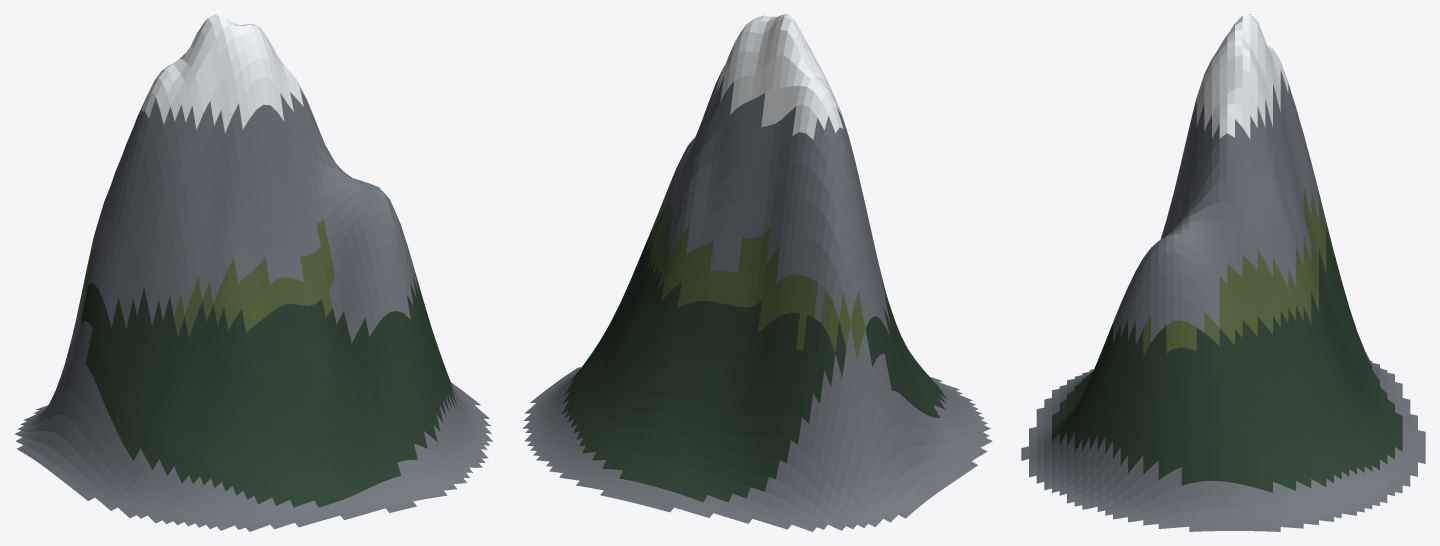
File: snow_mountain.glb
3 renders of one model, left to right at view 1: azimuth 30°, elevation 25°; view 2: azimuth 150°, elevation 25°; view 3: azimuth 270°, elevation 25°, orthographic. The views are drawn at different scales.
Visible parts, largest first — view 1: SnowMt_Rock, SnowMt_Forest, SnowMt_Snow, SnowMt_Meadow; view 2: SnowMt_Rock, SnowMt_Forest, SnowMt_Meadow, SnowMt_Snow; view 3: SnowMt_Rock, SnowMt_Forest, SnowMt_Meadow, SnowMt_Snow.
Boxes of the visible parts, x1,y1,x2,y2 form: SnowMt_Rock: [15, 88, 492, 531]; SnowMt_Forest: [81, 277, 457, 507]; SnowMt_Snow: [141, 14, 306, 133]; SnowMt_Meadow: [80, 219, 421, 337]; SnowMt_Rock: [522, 71, 992, 531]; SnowMt_Forest: [561, 231, 946, 502]; SnowMt_Meadow: [645, 191, 865, 359]; SnowMt_Snow: [715, 14, 843, 139]; SnowMt_Rock: [1021, 69, 1425, 531]; SnowMt_Forest: [1052, 222, 1402, 492]; SnowMt_Meadow: [1143, 186, 1333, 355]; SnowMt_Snow: [1196, 14, 1288, 138].
Bounding box in the file's own units: 2.4 × 2.49 × 2.24.
